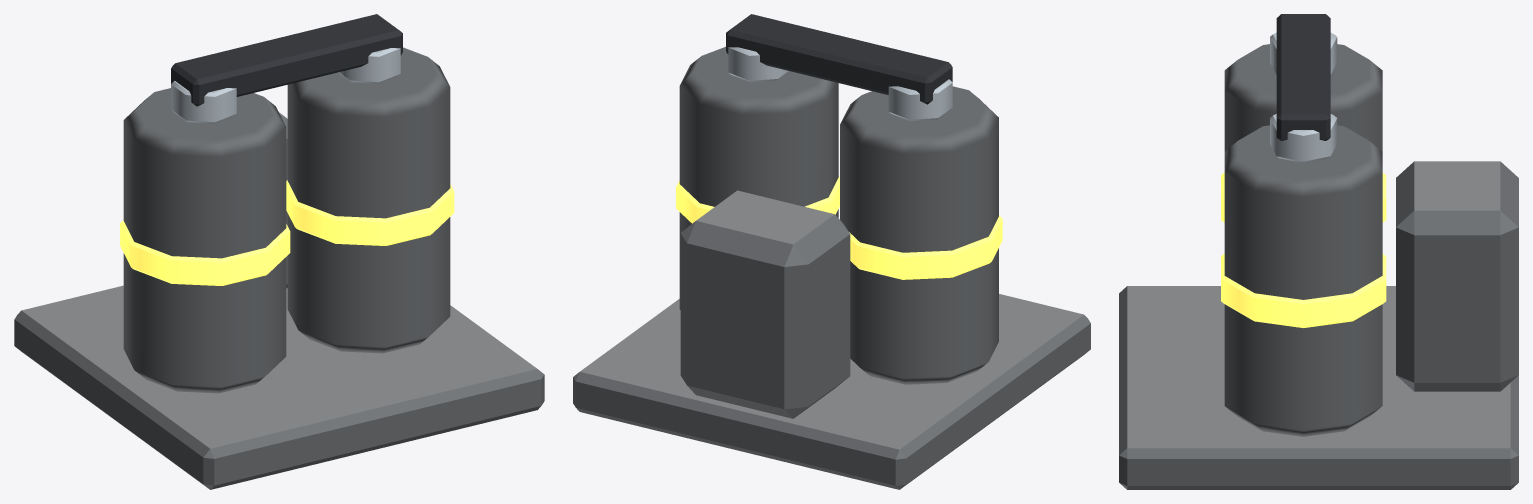
The model's file is R4X_Battery_LOD1.glb.
3 views of the same model, side by side, from view 1: azimuth 30°, elevation 25°; view 2: azimuth 150°, elevation 25°; view 3: azimuth 270°, elevation 25° (orthographic). The views are drawn at different scales.
Parts seen in each view (by area): view 1: R4X_Battery_LOD1; view 2: R4X_Battery_LOD1; view 3: R4X_Battery_LOD1.
Part boxes in pixels (x1=…): R4X_Battery_LOD1: x1=14, y1=14, x2=544, y2=489; R4X_Battery_LOD1: x1=573, y1=14, x2=1090, y2=489; R4X_Battery_LOD1: x1=1119, y1=14, x2=1518, y2=489.
Bounding box in the file's own units: 0.52 × 0.495 × 0.52.
